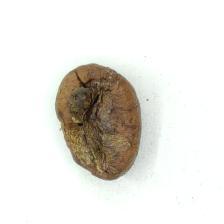NG: (58, 76, 127, 180)
